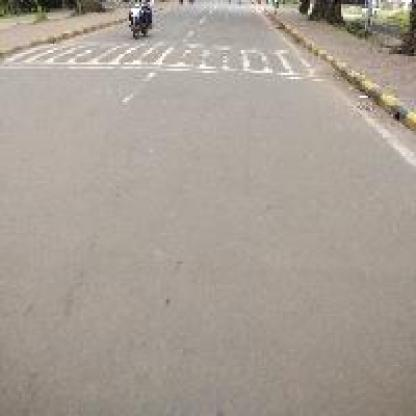Speed Bump: (0, 35, 321, 84)
